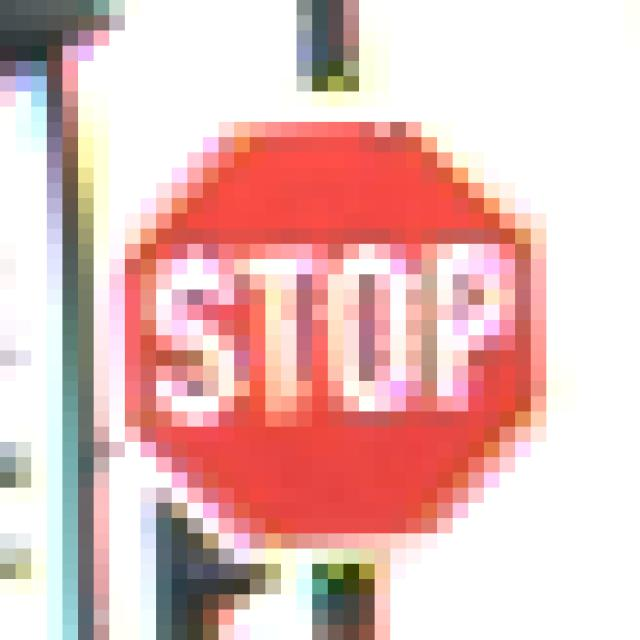STOP: (95, 92, 563, 565)
